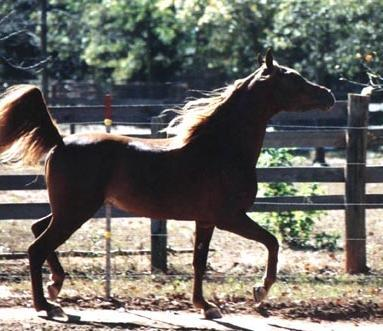horse: (0, 46, 336, 321)
